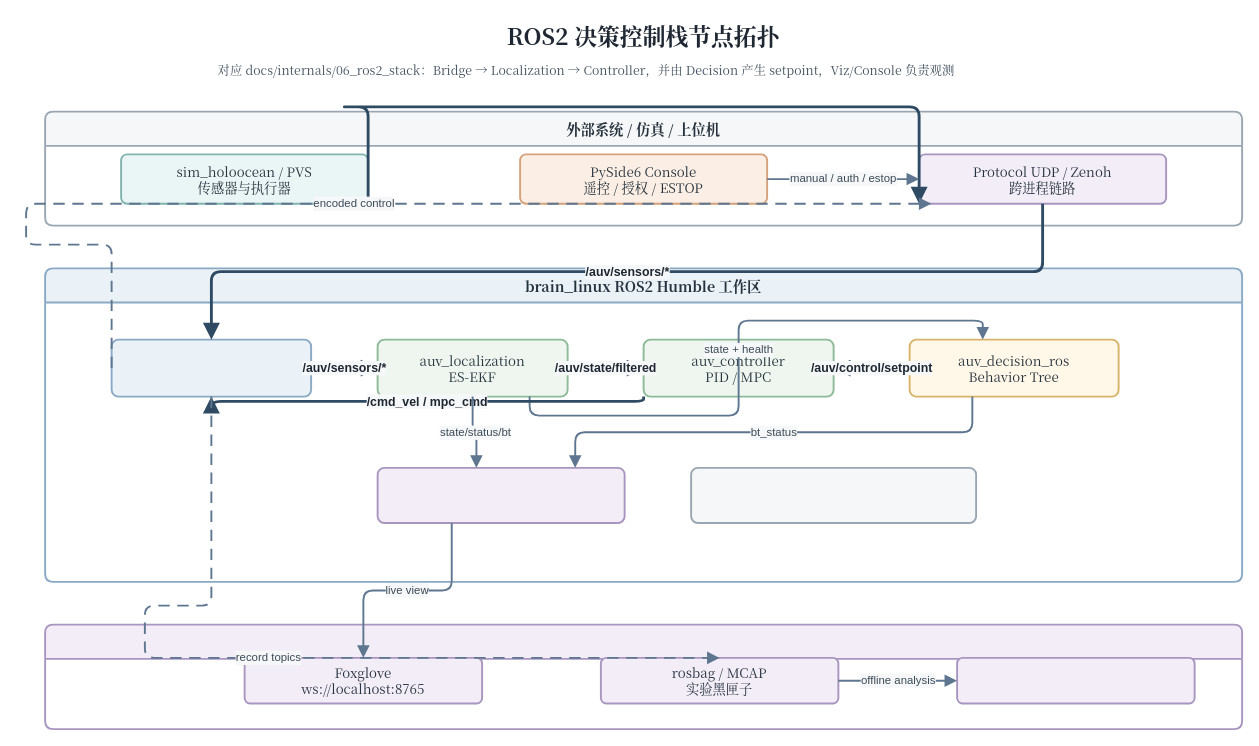
Some shapes in this 1259 by 746 pixel diagram are drawn without their labels. Each missing label, with the box of its shape:
auv_bridge Zenoh/UDP ↔ ROS2: (110, 338, 312, 397)
auv_interfaces Setpoint / MpcCmd / Status: (690, 466, 977, 523)
auv_viz_bridge Foxglove / Console Stream: (376, 466, 625, 523)
tools/analyze_bag.py 离线图表与 KPI: (956, 656, 1195, 704)
可视化与离线证据: (44, 623, 1243, 730)
